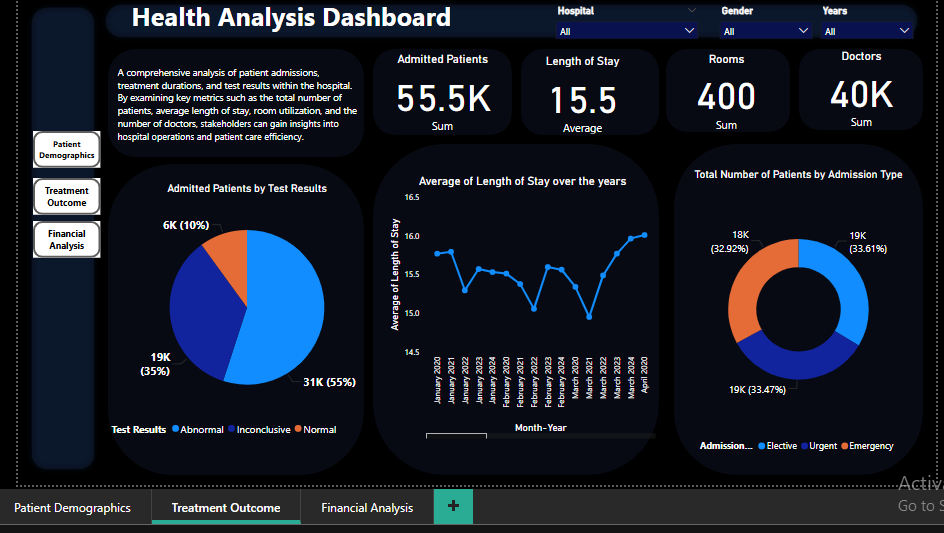

The dashboard page shown, as its layout file describes it:
{"tool":"powerbi","page":{"name":"Treatment Outcome","canvas":[1350,720],"ordinal":1},"visuals":[{"type":"shape","box":[120.5,5.9,1209.3,64.7],"z":0},{"type":"textbox","box":[161.6,0,689.1,127.8],"z":1000},{"type":"shape","box":[11.8,10.3,108.7,695],"z":2000},{"type":"shape","box":[132.2,79.3,376.2,158.7],"z":3000},{"type":"shape","box":[963.9,218.9,365.9,486.4],"z":4000},{"type":"shape","box":[739.1,79.3,202.8,126.4],"z":5000},{"type":"shape","box":[1147.6,79.3,182.2,119],"z":6000},{"type":"shape","box":[521.6,79.3,204.2,126.4],"z":7000},{"type":"shape","box":[132.2,248.3,376.2,457],"z":8000},{"type":"shape","box":[521.6,218.9,420.2,486.4],"z":9000},{"type":"slicer","fields":{"Values":["Data.Hospital"]},"box":[780.2,10.3,229.2,54.4],"z":10000},{"type":"shape","box":[952.2,79.3,182.2,122],"z":11000},{"type":"card","title":"Length of Stay","fields":{"Values":["Data.Avg lenght of day"]},"box":[731.8,86.7,195.4,122],"z":12000},{"type":"donutChart","fields":{"Category":["Data.Admission Type"],"Y":["Data.Total Nunber of Patients"]},"box":[972.7,248.3,348.2,433.5],"z":13000},{"type":"pieChart","title":"Admitted Patients by Test Results","fields":{"Category":["Data.Test Results"],"Y":["Data.Total Nunber of Patients"]},"box":[132.2,268.9,408.5,387.9],"z":14000},{"type":"card","title":"Rooms","fields":{"Values":["Data.Total Number of Rooms"]},"box":[952.2,83.8,177.8,117.6],"z":15000},{"type":"card","title":"Doctors","fields":{"Values":["Data.Total Doctors"]},"box":[1157.9,79.3,163.1,119],"z":16000},{"type":"card","title":"Admitted Patients","fields":{"Values":["Data.Total Nunber of Patients"]},"box":[521.6,79.3,204.2,126.4],"z":17000},{"type":"lineChart","title":"Average of Length of Stay over the  years","fields":{"Y":["Avg(Data.Length of Stay)"],"Category":["Calendar.Month-Year"]},"box":[540.7,258.6,401.1,398.2],"z":18000},{"type":"textbox","box":[141.1,98.4,365.9,160.2],"z":20000},{"type":"slicer","fields":{"Values":["Data.Gender"]},"box":[1021.2,10.3,155.8,54.4],"z":21000},{"type":"slicer","fields":{"Values":["Data.Years"]},"box":[1169.6,10.3,155.8,54.4],"z":22000},{"type":"actionButton","title":"Demographics","box":[21.6,200.1,99.1,54.1],"z":22001},{"type":"actionButton","title":"Demographics","box":[21.6,268.6,99.1,54.1],"z":22002},{"type":"actionButton","title":"Demographics","box":[21.6,331.6,99.1,54.1],"z":22003}]}

Visuals, with their boxes on the page's 1350x720 design canvas (x1, y1, x2, y2). These are canvas units, not pixel positions in the 944x533 screenshot, which may show the page scaled, cropped or inside an application window:
shape: (120,6,1330,71)
textbox: (162,0,851,128)
shape: (12,10,120,705)
shape: (132,79,508,238)
shape: (964,219,1330,705)
shape: (739,79,942,206)
shape: (1148,79,1330,198)
shape: (522,79,726,206)
shape: (132,248,508,705)
shape: (522,219,942,705)
slicer - Data.Hospital: (780,10,1009,65)
shape: (952,79,1134,201)
"Length of Stay" card: (732,87,927,209)
donutChart - Data.Admission Type x Data.Total Nunber of Patients: (973,248,1321,682)
"Admitted Patients by Test Results" pieChart: (132,269,541,657)
"Rooms" card: (952,84,1130,201)
"Doctors" card: (1158,79,1321,198)
"Admitted Patients" card: (522,79,726,206)
"Average of Length of Stay over the  years" lineChart: (541,259,942,657)
textbox: (141,98,507,259)
slicer - Data.Gender: (1021,10,1177,65)
slicer - Data.Years: (1170,10,1325,65)
"Demographics" actionButton: (22,200,121,254)
"Demographics" actionButton: (22,269,121,323)
"Demographics" actionButton: (22,332,121,386)
